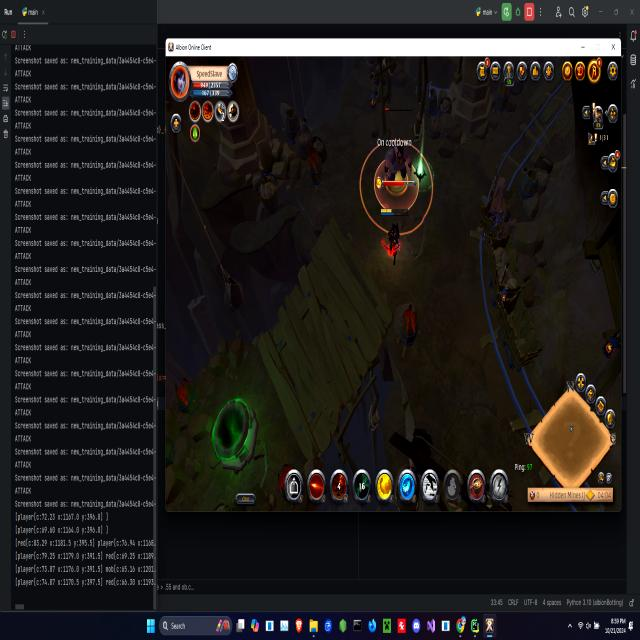ore: (381, 105, 418, 205)
red: (376, 206, 412, 270)
silver: (357, 136, 438, 240)
